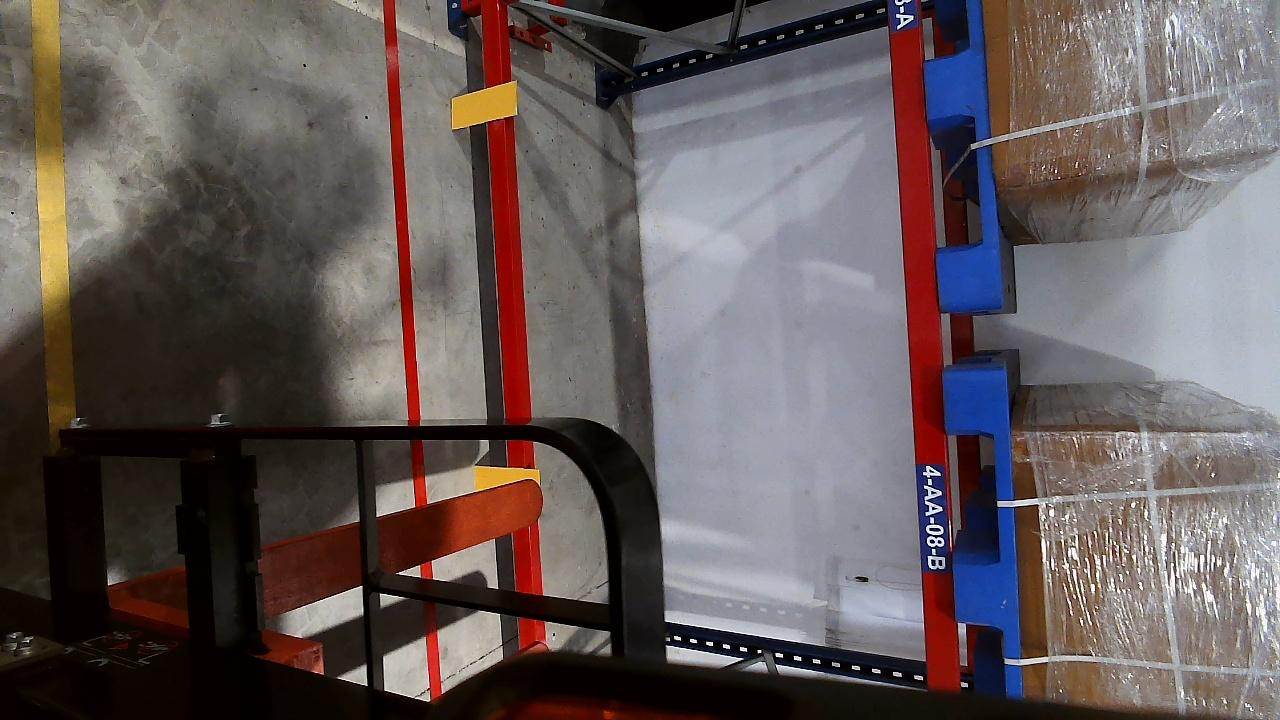h_rack: (887, 0, 955, 681), (477, 19, 550, 647)
orange_strip: (450, 82, 519, 129)
red_line: (381, 0, 446, 700)
small_pallet: (916, 1, 1008, 307), (942, 368, 1027, 690)
yellow_line: (31, 0, 74, 429)
